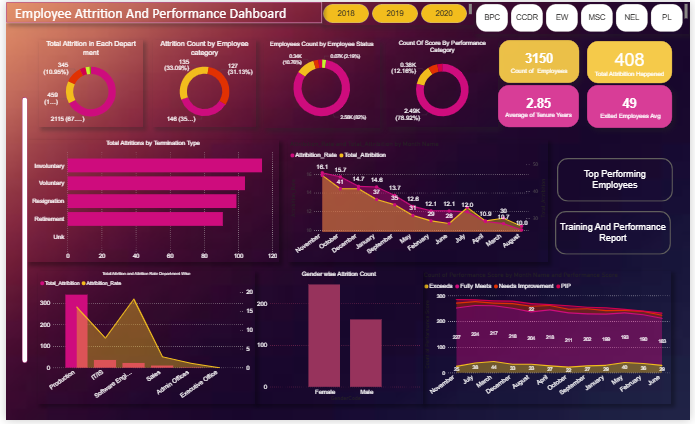

What the dashboard file says about the page in this screenshot:
{"tool":"powerbi","page":{"name":"Employee Performance","canvas":[1800,1100],"ordinal":0},"visuals":[{"type":"textbox","box":[19,0,785.7,61.9],"z":0},{"type":"stackedAreaChart","fields":{"Category":["Messy_HR_Dataset_Detailed.Month Name"],"Y":["CountNonNull(Messy_HR_Dataset_Detailed.Performance Score)"],"Series":["Messy_HR_Dataset_Detailed.Performance Score"]},"box":[1095.1,707.3,656.1,348.8],"z":1000},{"type":"lineChart","fields":{"Category":["Messy_HR_Dataset_Detailed.Month Name"],"Y":["Measures (2).Attribition_Rate"],"Y2":["Measures (2).Total_Attribition"]},"box":[741.5,363.4,682.9,322],"z":2000},{"type":"donutChart","title":"Count Of Score By Performance Category","fields":{"Category":["Messy_HR_Dataset_Detailed.Performance Score"],"Y":["CountNonNull(Messy_HR_Dataset_Detailed.Performance Score)"]},"box":[1000,100,296.3,229.6],"z":3000},{"type":"donutChart","title":"Employees Count by Employee Status","fields":{"Y":["CountNonNull(Messy_HR_Dataset_Detailed.Employee ID)"],"Category":["Messy_HR_Dataset_Detailed.EmployeeStatus"]},"box":[677.8,103.7,303.7,229.6],"z":4000},{"type":"barChart","title":"Total Attritions by Termination Type","fields":{"Category":["Messy_HR_Dataset_Detailed.TerminationType"],"Y":["Sum(Messy_HR_Dataset_Detailed.Attribition)"]},"box":[56.1,363.4,663.4,322],"z":5000},{"type":"lineStackedColumnComboChart","title":"Total Attrition and Attrition Rate Department Wise","fields":{"Category":["Messy_HR_Dataset_Detailed.DepartmentType"],"Y":["Measures (2).Total_Attribition"],"Y2":["Measures (2).Attribition_Rate"]},"box":[85.4,707.3,570.7,348.8],"z":6000},{"type":"columnChart","title":"Gender wise Attrition Count  ","fields":{"Category":["Messy_HR_Dataset_Detailed.GenderCode"],"Y":["Sum(Messy_HR_Dataset_Detailed.Attribition)"]},"box":[656.1,707.3,441.5,348.8],"z":7000},{"type":"donutChart","title":" Attrition Count by  Employee category ","fields":{"Category":["Messy_HR_Dataset_Detailed.EmployeeClassificationType"],"Y":["Measures (2).Total_Attribition"]},"box":[385.7,100,271.4,228.6],"z":8000},{"type":"card","fields":{"Values":["Measures (2).Avg_Age_Attribitedemployess"]},"box":[1528.9,218.4,223.7,113.2],"z":9000},{"type":"card","fields":{"Values":["Measures (2).Total_Attribition"]},"box":[1528.9,102.6,223.7,110.5],"z":10000},{"type":"card","fields":{"Values":["CountNonNull(Messy_HR_Dataset_Detailed.Employee ID)"]},"box":[1297.4,100,210.5,113.2],"z":11000},{"type":"card","fields":{"Values":["Avg(Messy_HR_Dataset_Detailed.Tenure-Days)"]},"box":[1294.7,218.4,213.2,110.5],"z":12000},{"type":"donutChart","title":"Total Attrition in Each Depart ment","fields":{"Category":["Messy_HR_Dataset_Detailed.DepartmentType"],"Y":["CountNonNull(Messy_HR_Dataset_Detailed.Employee ID)"]},"box":[87.8,100,273.2,229.3],"z":13000},{"type":"shape","box":[41.5,248.8,14.6,700],"z":14000},{"type":"advancedSlicerVisual","fields":{"Values":["Messy_HR_Dataset_Detailed.Year"]},"box":[829.3,0,402.4,61],"z":15000},{"type":"shape","box":[0,0,831,54.8],"z":16000},{"type":"advancedSlicerVisual","fields":{"Values":["Messy_HR_Dataset_Detailed.BusinessUnit"]},"box":[1232.6,0,567.4,83.7],"z":17000},{"type":"actionButton","box":[1448.8,409.8,304.9,114.6],"z":18000},{"type":"actionButton","box":[1443.9,551.2,304.9,114.6],"z":19000}]}

Visuals, with their boxes in screenshot pixels (x1, y1, x2, y2), scaled from the page's 1800x1100 canvas onto the 695x424 screenshot:
textbox: bbox=(7, 0, 311, 24)
stackedAreaChart - Messy_HR_Dataset_Detailed.Month Name x CountNonNull(Messy_HR_Dataset_Detailed.Performance Score): bbox=(423, 273, 676, 407)
lineChart - Messy_HR_Dataset_Detailed.Month Name x Measures (2).Attribition_Rate: bbox=(286, 140, 550, 264)
"Count Of Score By Performance Category" donutChart: bbox=(386, 39, 501, 127)
"Employees Count by Employee Status" donutChart: bbox=(262, 40, 379, 128)
"Total Attritions by Termination Type" barChart: bbox=(22, 140, 278, 264)
"Total Attrition and Attrition Rate Department Wise" lineStackedColumnComboChart: bbox=(33, 273, 253, 407)
"Gender wise Attrition Count  " columnChart: bbox=(253, 273, 424, 407)
" Attrition Count by  Employee category " donutChart: bbox=(149, 39, 254, 127)
card - Measures (2).Avg_Age_Attribitedemployess: bbox=(590, 84, 677, 128)
card - Measures (2).Total_Attribition: bbox=(590, 40, 677, 82)
card - CountNonNull(Messy_HR_Dataset_Detailed.Employee ID): bbox=(501, 39, 582, 82)
card - Avg(Messy_HR_Dataset_Detailed.Tenure-Days): bbox=(500, 84, 582, 127)
"Total Attrition in Each Depart ment" donutChart: bbox=(34, 39, 139, 127)
shape: bbox=(16, 96, 22, 366)
advancedSlicerVisual - Messy_HR_Dataset_Detailed.Year: bbox=(320, 0, 476, 24)
shape: bbox=(0, 0, 321, 21)
advancedSlicerVisual - Messy_HR_Dataset_Detailed.BusinessUnit: bbox=(476, 0, 694, 32)
actionButton: bbox=(559, 158, 677, 202)
actionButton: bbox=(558, 212, 675, 257)
